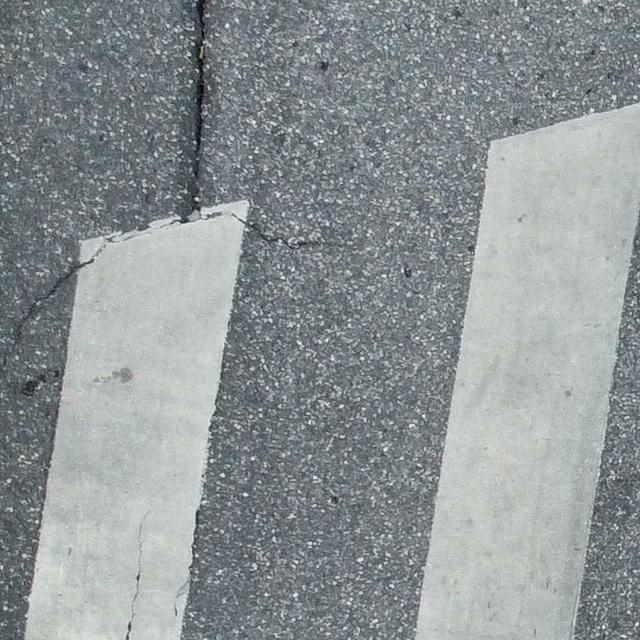LongitudinalCrack: (182, 1, 212, 227)
